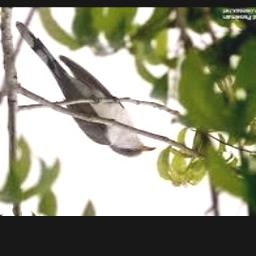Cuckoo: (17, 20, 157, 158)
